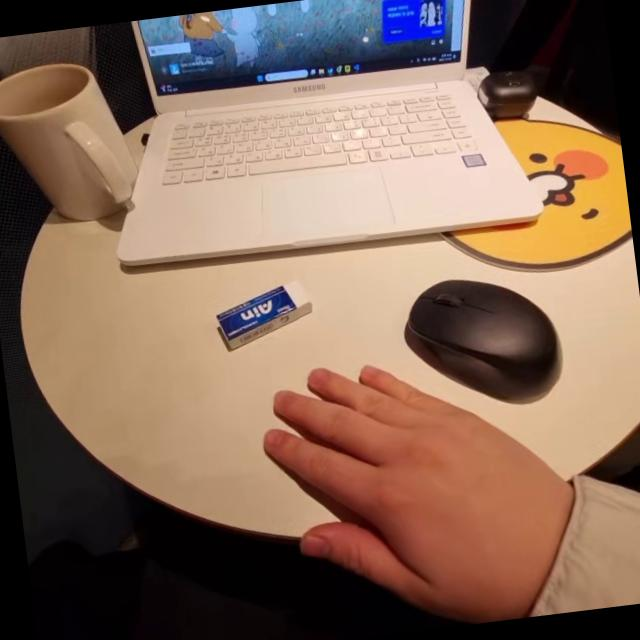eraser: (207, 282, 316, 356)
hand: (235, 334, 560, 640)
mouse: (391, 262, 578, 419)
